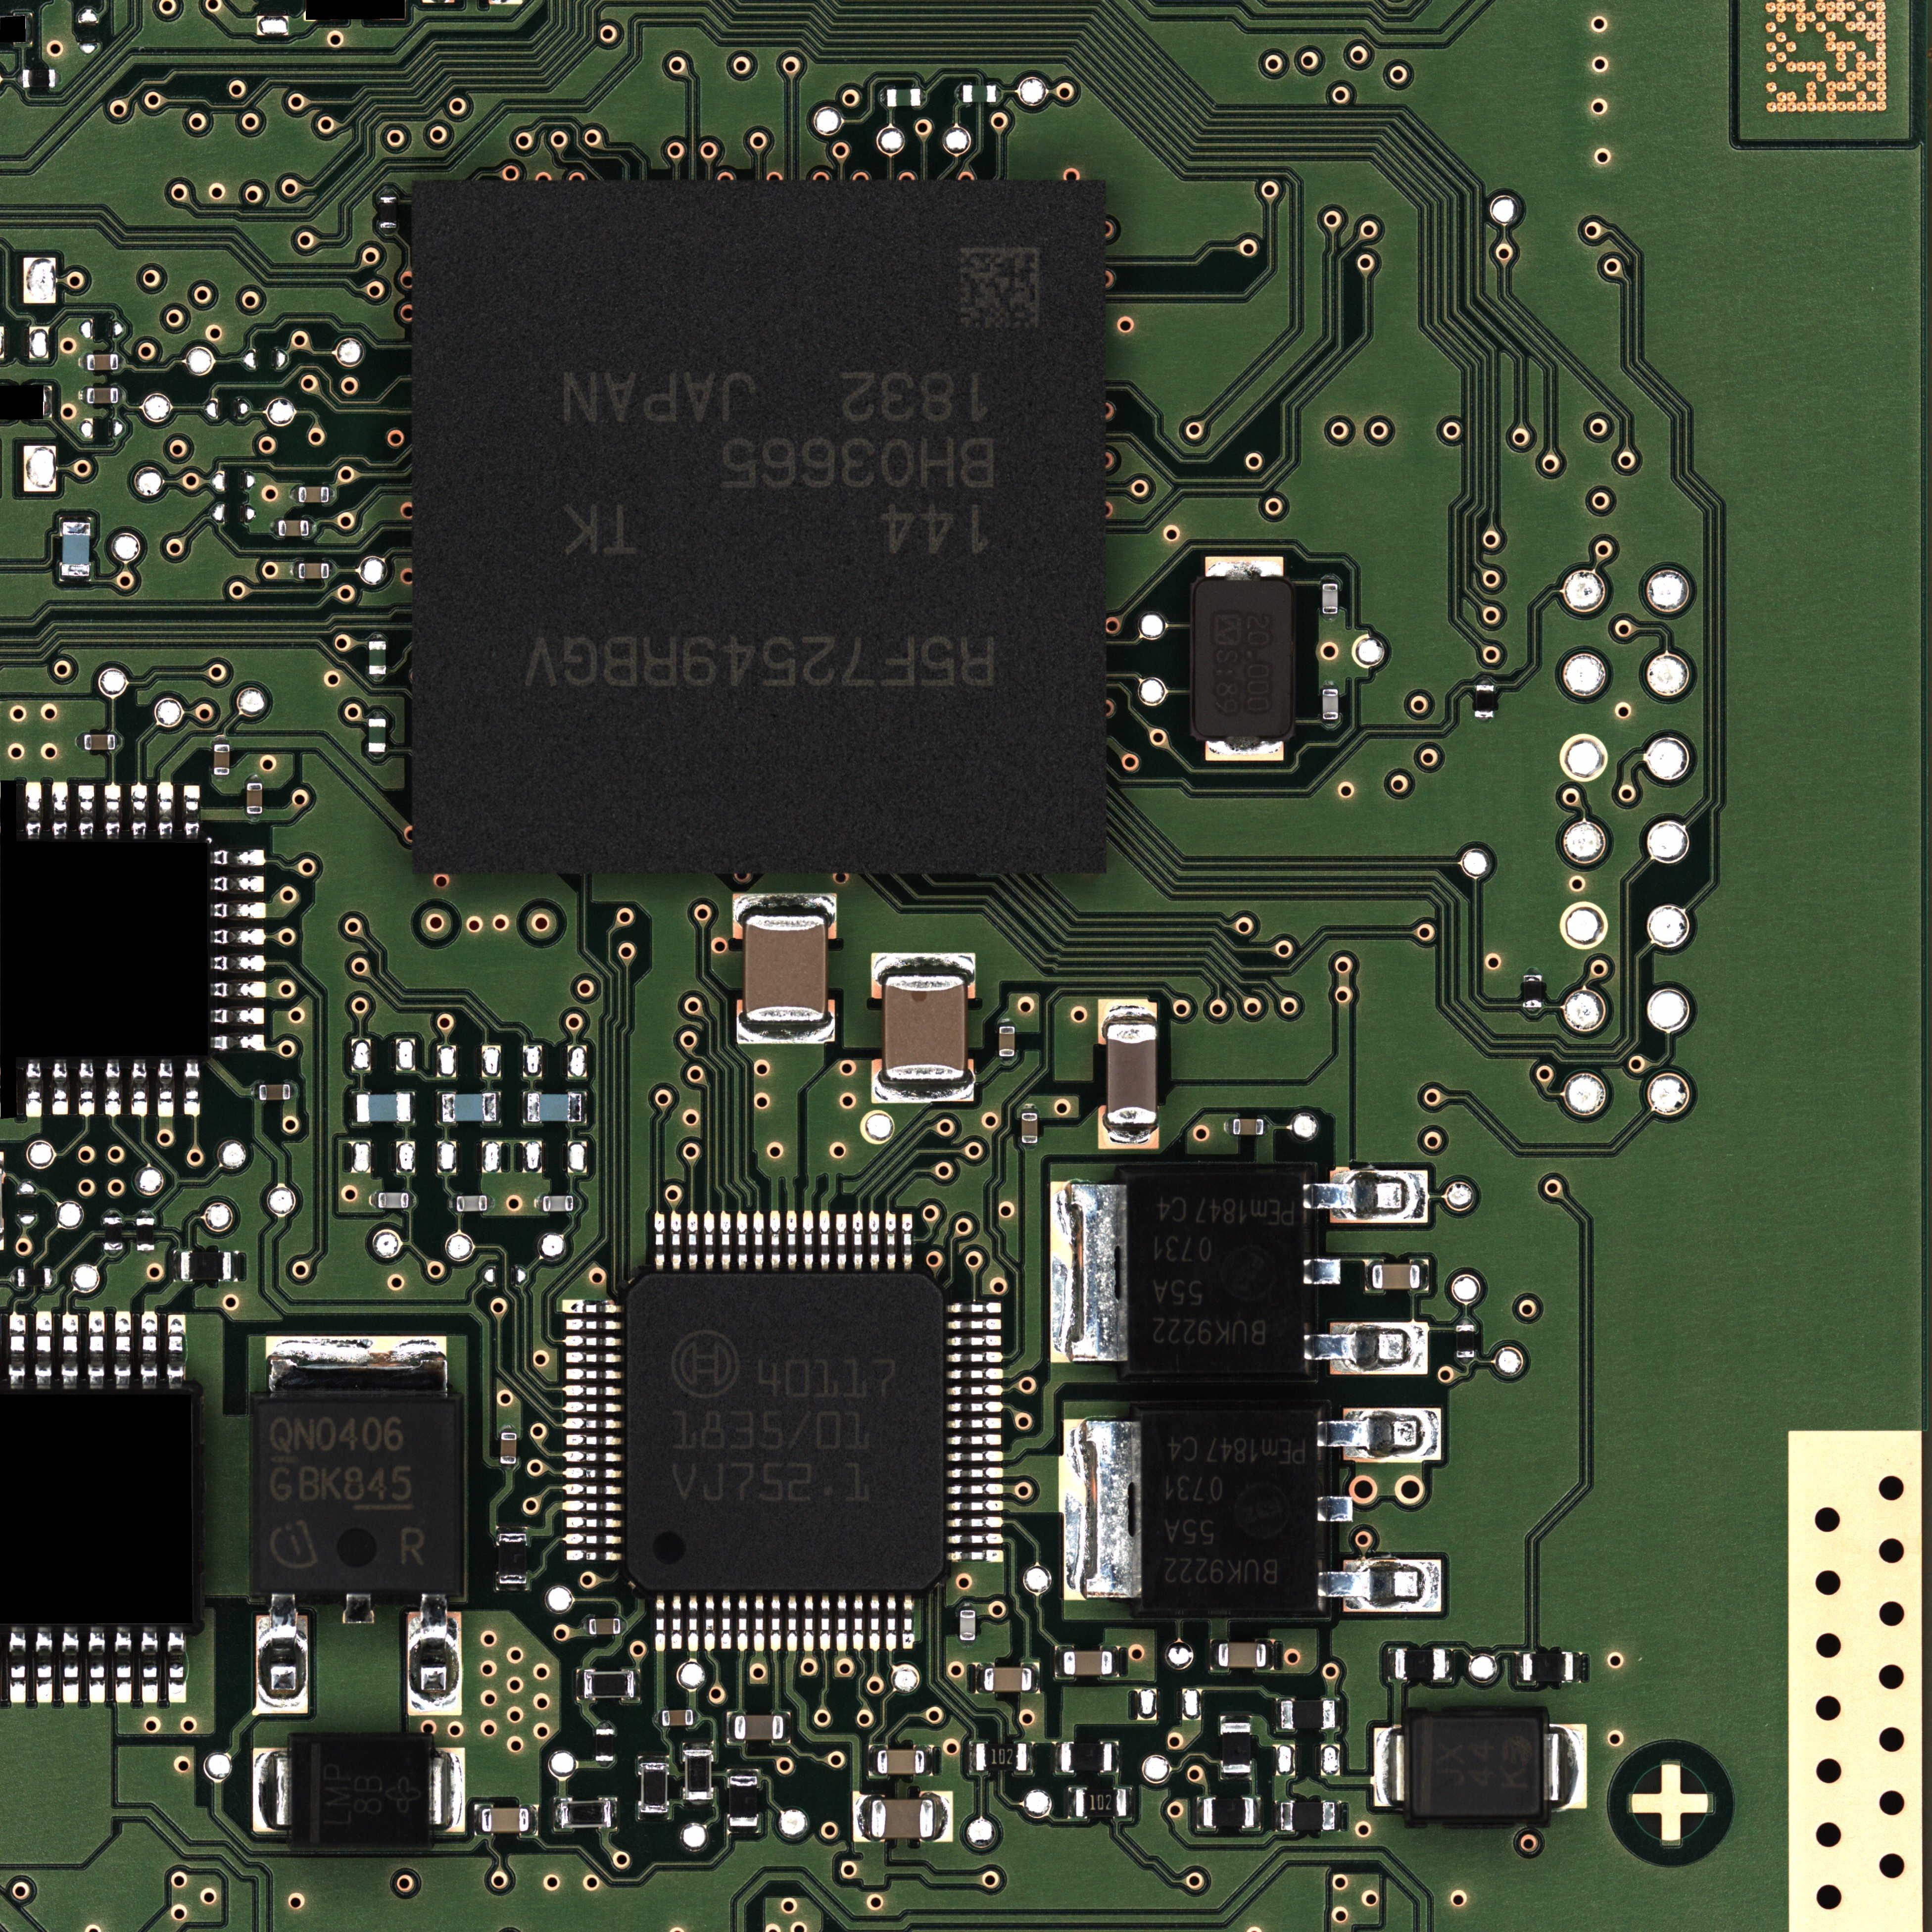Package: (412, 184, 1104, 867), (626, 1274, 945, 1591), (258, 1401, 456, 1592), (1139, 1410, 1316, 1614), (1127, 1175, 1304, 1375), (292, 1734, 432, 1852), (1191, 580, 1293, 736), (1407, 1713, 1546, 1822), (745, 916, 828, 1021), (883, 977, 966, 1079), (1108, 1024, 1157, 1123), (870, 1799, 934, 1838), (1281, 1801, 1336, 1831), (356, 1093, 410, 1122), (527, 1093, 582, 1122), (1281, 1700, 1336, 1729), (1203, 1798, 1254, 1828), (62, 522, 90, 575), (442, 1093, 495, 1122), (1523, 1652, 1573, 1683), (1396, 1649, 1445, 1679), (1221, 1723, 1251, 1773), (1062, 1743, 1111, 1773), (180, 1251, 232, 1279), (975, 1743, 1026, 1771), (729, 1776, 757, 1826), (584, 1670, 633, 1698), (499, 1534, 527, 1583), (561, 1799, 610, 1828), (1076, 1790, 1127, 1817), (640, 1764, 669, 1812), (734, 1714, 784, 1741), (685, 1750, 711, 1799), (1373, 1263, 1421, 1290), (1219, 1642, 1267, 1668), (1063, 1651, 1113, 1675), (878, 1750, 925, 1775), (481, 1808, 529, 1833), (984, 1668, 1031, 1691), (1476, 685, 1495, 718), (1523, 975, 1543, 1008), (379, 196, 398, 228), (1456, 1325, 1476, 1357), (886, 88, 920, 106), (368, 640, 386, 674), (368, 718, 386, 752), (18, 1269, 51, 1286), (136, 1217, 154, 1251), (962, 85, 996, 103), (596, 1729, 614, 1760), (104, 1217, 122, 1249), (662, 1709, 694, 1727), (1233, 1118, 1263, 1136), (246, 782, 262, 814), (278, 520, 310, 536), (87, 354, 119, 370), (87, 387, 119, 403), (589, 1619, 621, 1635), (258, 1085, 290, 1100), (1323, 688, 1339, 720), (23, 71, 55, 87), (299, 487, 329, 502), (85, 734, 115, 750), (299, 563, 329, 579), (214, 745, 230, 775), (379, 1192, 409, 1208), (501, 1433, 517, 1463), (543, 1196, 573, 1212), (456, 1196, 487, 1212), (1000, 1026, 1016, 1056), (961, 1610, 977, 1640), (1023, 1113, 1039, 1143), (1323, 582, 1338, 614)
Solder: (1062, 1419, 1139, 1601), (1049, 1182, 1127, 1362), (265, 1336, 448, 1401), (1316, 1408, 1440, 1463), (407, 1592, 462, 1714), (1304, 1322, 1426, 1375), (255, 1592, 308, 1713), (1306, 1169, 1426, 1223), (1316, 1560, 1440, 1612), (1548, 1725, 1587, 1810), (253, 1748, 288, 1833), (432, 1748, 465, 1833), (732, 893, 837, 916), (872, 954, 975, 977), (872, 1081, 975, 1104), (1375, 1729, 1405, 1806), (736, 1023, 835, 1044), (1205, 740, 1284, 761), (1205, 556, 1284, 577), (166, 1631, 188, 1704), (140, 1631, 161, 1704), (113, 1631, 134, 1704), (60, 1631, 81, 1704), (7, 1631, 28, 1704), (168, 1309, 188, 1387), (87, 1633, 108, 1704), (34, 1633, 55, 1704), (35, 1309, 53, 1387), (62, 1309, 80, 1387), (88, 1309, 106, 1387), (115, 1309, 133, 1387), (142, 1309, 159, 1387), (9, 1311, 27, 1387), (1104, 1001, 1157, 1024), (50, 780, 69, 842), (103, 780, 122, 842), (78, 780, 97, 842), (211, 874, 267, 895), (25, 780, 44, 840), (129, 780, 149, 840), (182, 780, 202, 840), (156, 780, 175, 840), (211, 847, 267, 867), (211, 927, 267, 947), (211, 901, 267, 920), (211, 1033, 267, 1053), (211, 954, 267, 973), (211, 980, 267, 1000), (211, 1007, 267, 1026), (182, 1060, 202, 1116), (129, 1062, 149, 1118), (103, 1062, 122, 1118), (25, 1062, 44, 1118), (1104, 1123, 1155, 1145), (157, 1062, 175, 1118), (78, 1062, 96, 1118), (51, 1062, 69, 1118), (934, 1790, 954, 1842), (1304, 1258, 1341, 1284), (343, 1592, 373, 1624), (563, 1299, 621, 1315), (853, 1792, 870, 1842), (1318, 1497, 1353, 1522), (563, 1467, 625, 1479), (686, 1210, 699, 1270), (563, 1417, 623, 1430), (736, 1210, 748, 1270), (786, 1210, 798, 1270), (563, 1401, 623, 1414), (563, 1500, 623, 1513), (564, 1318, 623, 1330), (885, 1212, 897, 1270), (869, 1594, 881, 1652), (770, 1594, 782, 1652), (819, 1594, 832, 1652), (566, 1352, 623, 1364), (566, 1368, 623, 1380), (902, 1594, 915, 1651), (720, 1594, 732, 1651), (566, 1516, 623, 1529), (950, 1368, 1003, 1380), (950, 1401, 1003, 1414), (950, 1550, 1003, 1562), (655, 1210, 665, 1270), (671, 1210, 681, 1270), (704, 1210, 715, 1270), (563, 1385, 623, 1396), (869, 1210, 879, 1270), (803, 1210, 814, 1270), (754, 1210, 764, 1270), (770, 1210, 780, 1270), (720, 1210, 731, 1270), (563, 1484, 623, 1495), (563, 1451, 623, 1461), (950, 1318, 1001, 1330), (950, 1417, 1001, 1430), (952, 1500, 1003, 1513), (952, 1516, 1003, 1529), (952, 1467, 1003, 1479), (564, 1336, 623, 1346), (819, 1212, 830, 1270), (853, 1212, 863, 1270), (886, 1594, 897, 1652), (564, 1534, 623, 1545), (853, 1594, 863, 1652), (803, 1594, 814, 1652), (787, 1594, 798, 1652), (754, 1594, 764, 1652), (738, 1594, 748, 1652), (952, 1302, 1001, 1315), (902, 1214, 913, 1270), (837, 1214, 847, 1270), (566, 1435, 623, 1445), (671, 1594, 681, 1651), (655, 1594, 665, 1651), (688, 1594, 699, 1651), (566, 1550, 623, 1560), (704, 1594, 715, 1651), (837, 1594, 847, 1651), (950, 1352, 1003, 1362), (950, 1385, 1003, 1396), (950, 1534, 1003, 1545), (950, 1336, 1001, 1346), (952, 1484, 1003, 1495), (952, 1451, 1003, 1461), (952, 1435, 1001, 1445), (1573, 1652, 1583, 1683), (869, 1744, 878, 1778), (968, 1741, 977, 1775), (1387, 1647, 1396, 1681), (925, 1744, 934, 1776), (683, 1741, 715, 1750), (727, 1826, 759, 1835), (727, 1767, 759, 1776), (1364, 1260, 1373, 1292), (1421, 1260, 1430, 1292), (1111, 1741, 1120, 1773), (975, 1663, 984, 1695), (1221, 1714, 1253, 1723), (1514, 1652, 1523, 1684), (230, 1251, 239, 1281), (529, 1805, 538, 1835), (1031, 1663, 1040, 1693), (1067, 1789, 1076, 1819), (495, 1583, 529, 1591), (60, 575, 92, 582), (350, 1092, 357, 1123), (580, 1092, 587, 1123), (577, 1668, 584, 1700), (633, 1668, 640, 1700), (1254, 1798, 1261, 1829), (1221, 1773, 1253, 1780), (1127, 1787, 1134, 1819), (1196, 1798, 1203, 1829), (1054, 1741, 1062, 1773), (1445, 1649, 1453, 1681), (27, 14, 34, 46), (44, 386, 51, 418), (173, 1251, 180, 1281), (435, 1093, 442, 1123), (495, 1093, 502, 1123), (474, 1805, 481, 1835), (497, 1527, 527, 1534), (639, 1813, 669, 1821), (784, 1713, 791, 1743), (610, 1798, 617, 1828), (727, 1713, 734, 1743), (639, 1755, 669, 1762), (554, 1799, 561, 1829), (683, 1799, 713, 1806), (1334, 1801, 1341, 1831), (1210, 1640, 1217, 1670), (1267, 1640, 1274, 1670), (1056, 1647, 1063, 1677), (1274, 1801, 1281, 1831), (1026, 1743, 1033, 1773), (103, 1249, 124, 1258), (60, 517, 92, 522), (1276, 1698, 1281, 1730), (410, 1093, 416, 1123), (522, 1093, 527, 1123), (1336, 1698, 1341, 1729), (1113, 1647, 1118, 1677), (290, 487, 299, 502), (76, 734, 85, 750), (370, 1192, 379, 1208), (409, 1192, 418, 1208), (448, 1196, 456, 1212), (534, 1196, 543, 1212), (501, 1424, 517, 1433), (573, 1196, 582, 1212), (959, 1601, 975, 1610), (246, 814, 262, 823), (379, 228, 398, 235), (136, 1210, 156, 1217), (103, 1210, 122, 1217), (11, 1269, 18, 1288), (594, 1760, 614, 1767), (594, 1721, 614, 1729), (1476, 678, 1495, 685), (1523, 968, 1543, 975), (1523, 1008, 1543, 1016), (80, 354, 87, 372), (380, 189, 398, 196), (368, 674, 386, 681), (50, 1269, 57, 1286), (487, 1196, 495, 1210), (499, 1463, 517, 1470), (582, 1617, 589, 1635), (955, 85, 962, 103), (998, 1056, 1016, 1063), (998, 1019, 1016, 1026), (1226, 1118, 1233, 1136), (1263, 1118, 1270, 1136), (959, 1640, 977, 1647), (879, 88, 886, 106), (119, 354, 126, 370), (329, 487, 336, 502), (80, 387, 87, 403), (115, 734, 122, 750), (329, 563, 336, 579), (246, 777, 262, 784), (370, 711, 386, 718), (272, 520, 280, 536), (292, 563, 299, 579), (370, 752, 386, 759), (214, 738, 230, 745), (920, 90, 927, 106), (621, 1617, 628, 1633), (1322, 575, 1338, 582), (1322, 720, 1338, 727), (1322, 614, 1338, 621), (1322, 681, 1338, 688), (1023, 1106, 1039, 1113), (1023, 1143, 1039, 1150), (1458, 1318, 1474, 1325), (1458, 1357, 1474, 1364), (55, 71, 62, 87), (136, 1251, 154, 1256), (255, 1083, 260, 1100), (694, 1709, 699, 1727), (996, 85, 1001, 103), (1476, 718, 1493, 724), (119, 387, 124, 403), (310, 520, 315, 536), (370, 635, 386, 640), (214, 775, 230, 780), (290, 1085, 295, 1100), (656, 1711, 662, 1727), (16, 71, 21, 87)
